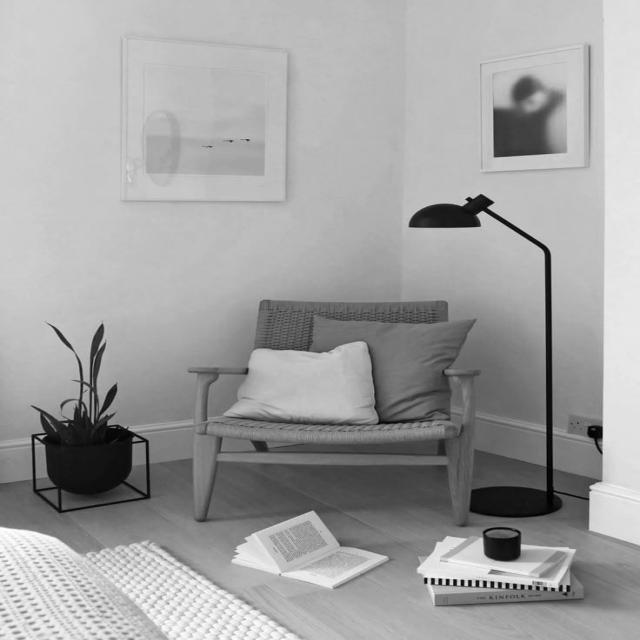book: (429, 524, 610, 628), (239, 508, 385, 606)
chair: (183, 278, 470, 501)
